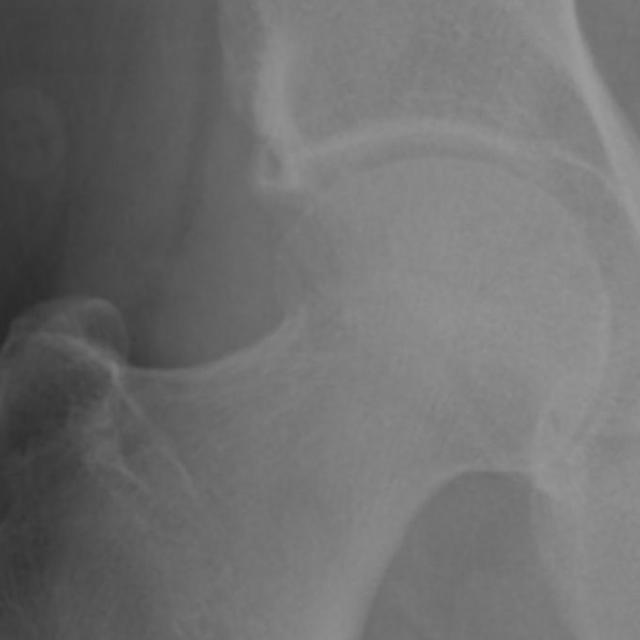Fitted_femural_head: (356, 152, 432, 356)
